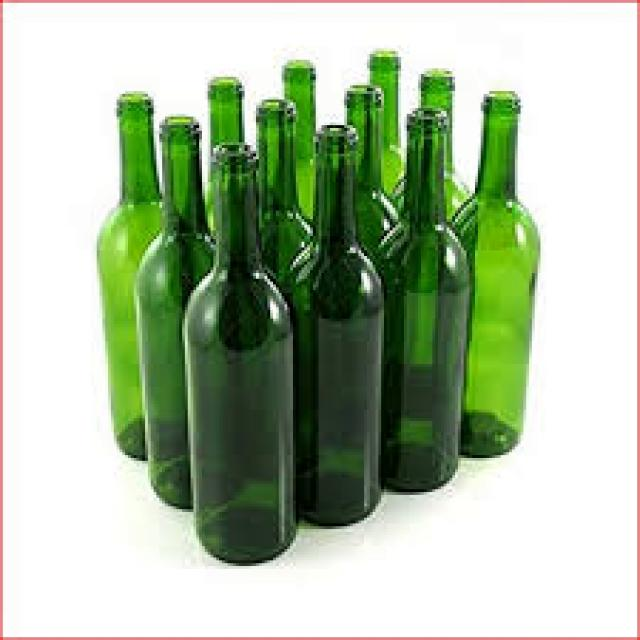Glass: (178, 135, 303, 573), (281, 117, 389, 533), (435, 88, 541, 460), (94, 89, 192, 466)
